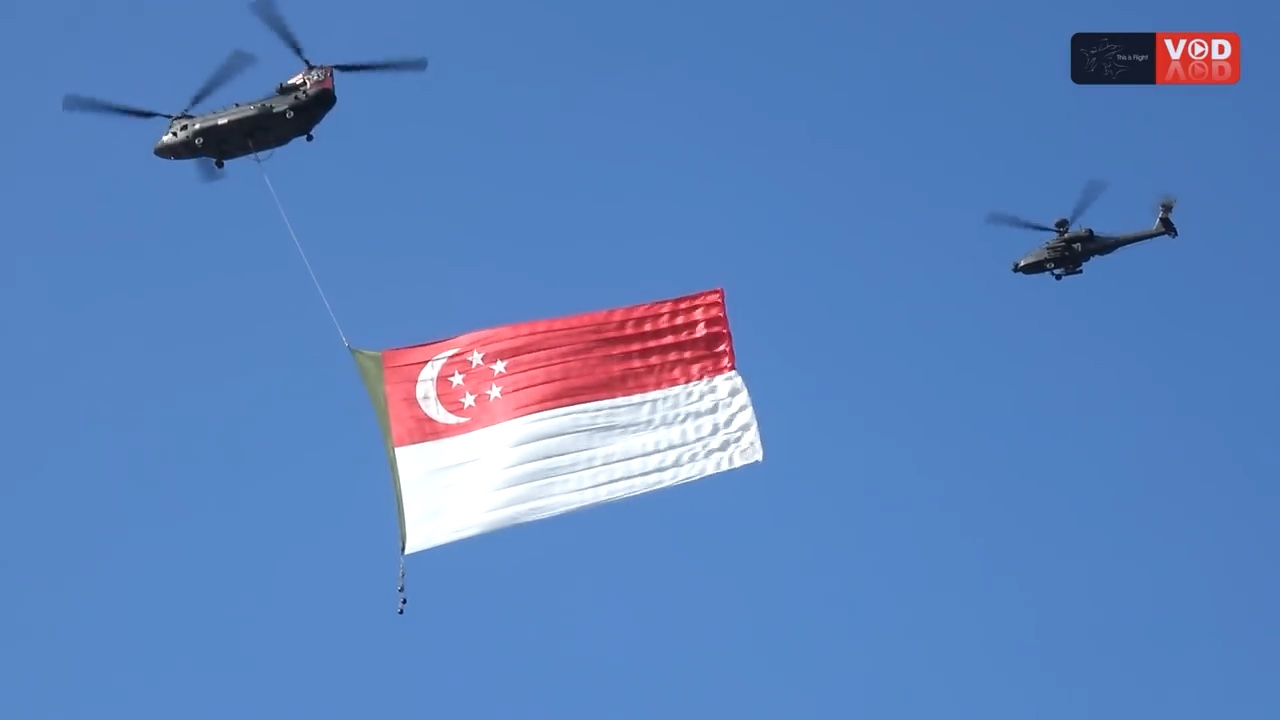ah64: (983, 176, 1183, 284)
chinook: (60, 1, 431, 189)
